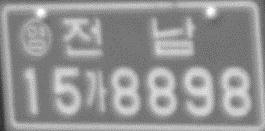1: (15, 66, 47, 117)
5: (53, 67, 81, 115)
8: (220, 67, 253, 118), (109, 66, 141, 116), (146, 66, 177, 116)
9: (183, 66, 215, 116)
가: (82, 68, 108, 113)
영: (18, 17, 53, 58)
전남_D: (61, 16, 196, 57)
